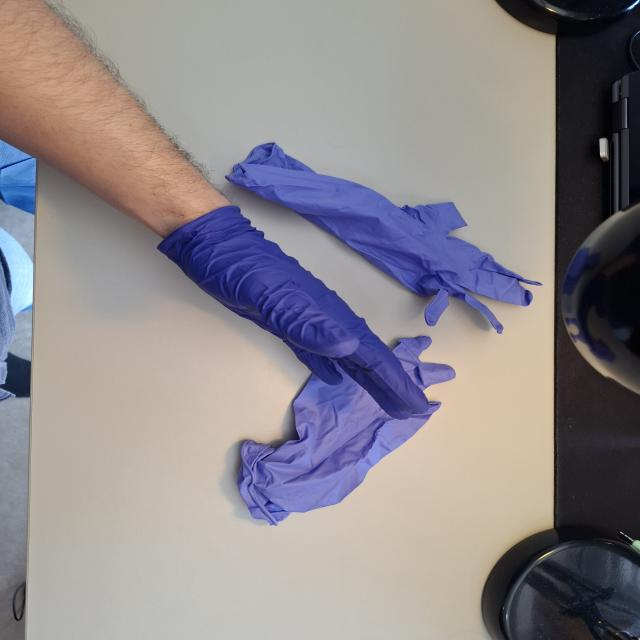glove_on: (154, 200, 432, 421)
